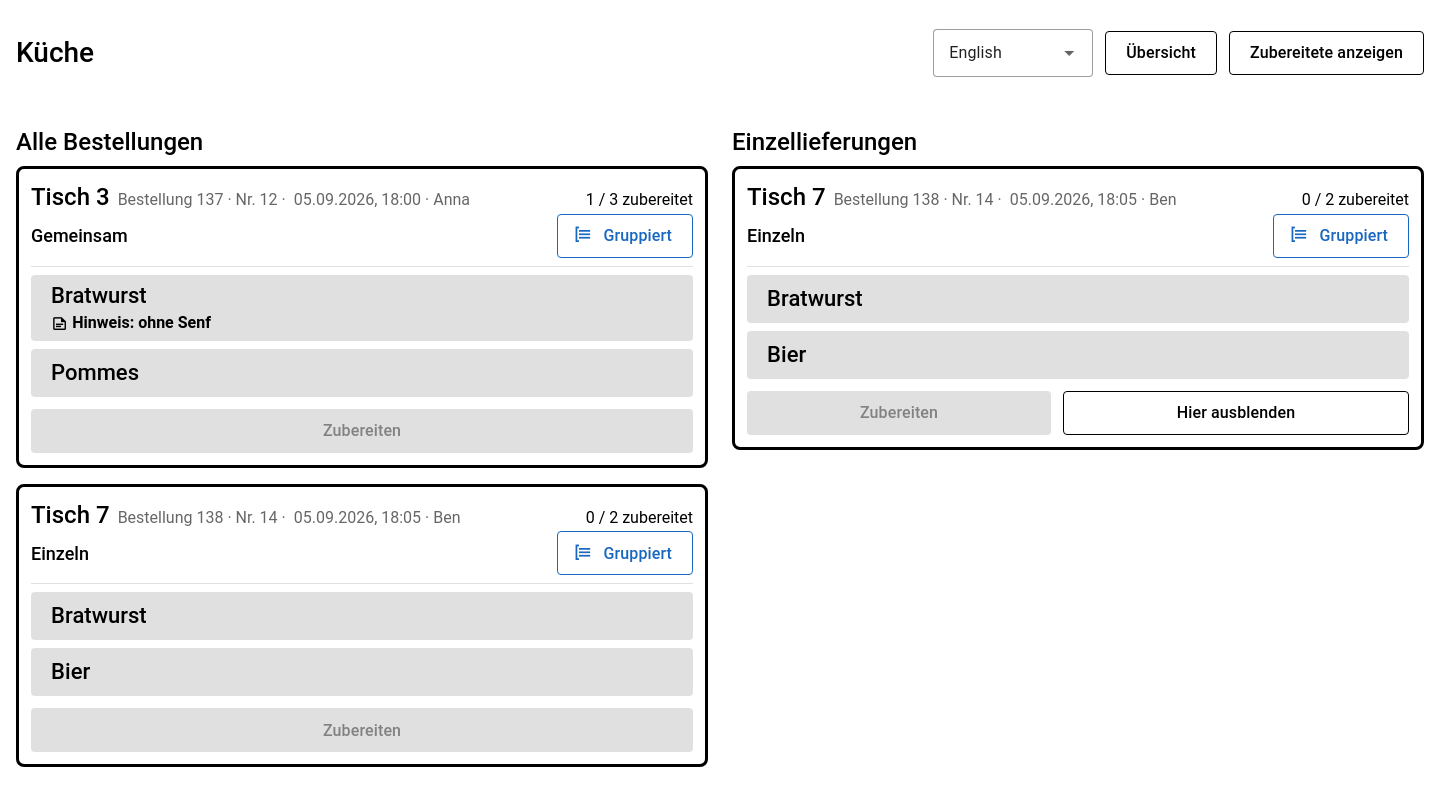
Test case: the done view › keeps two different notes apart in the summary line
The image size is (1440, 810).
Click the button with test id "show-done": coordinates (1326, 53) [1229,31,1424,75]
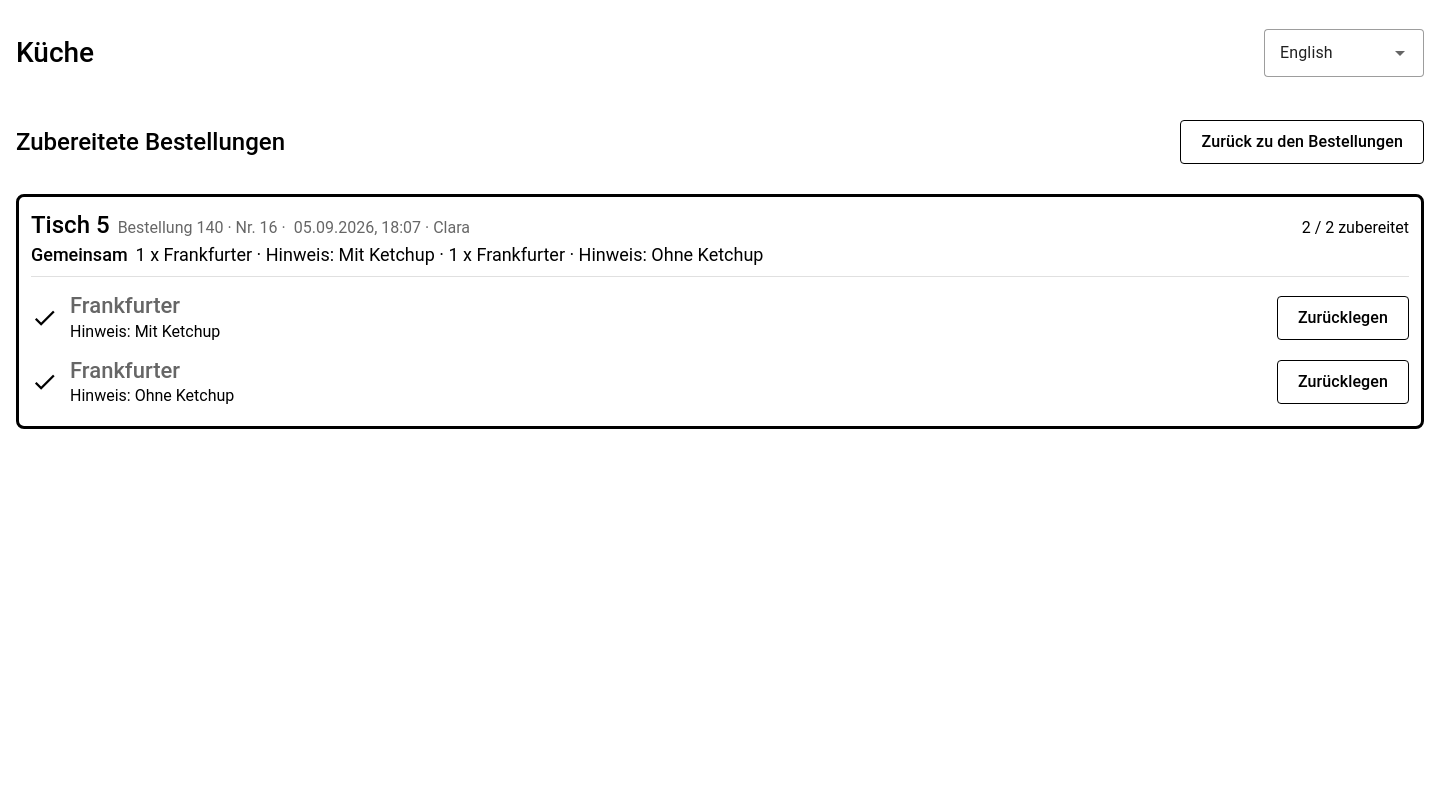
expect the text with test id "unit-summary" reads "1 x Frankfurter · Hinweis: Mit Ketchup · 1 x Frankfurter · Hinweis: Ohne Ketchup": met, box [136,244,764,266]
